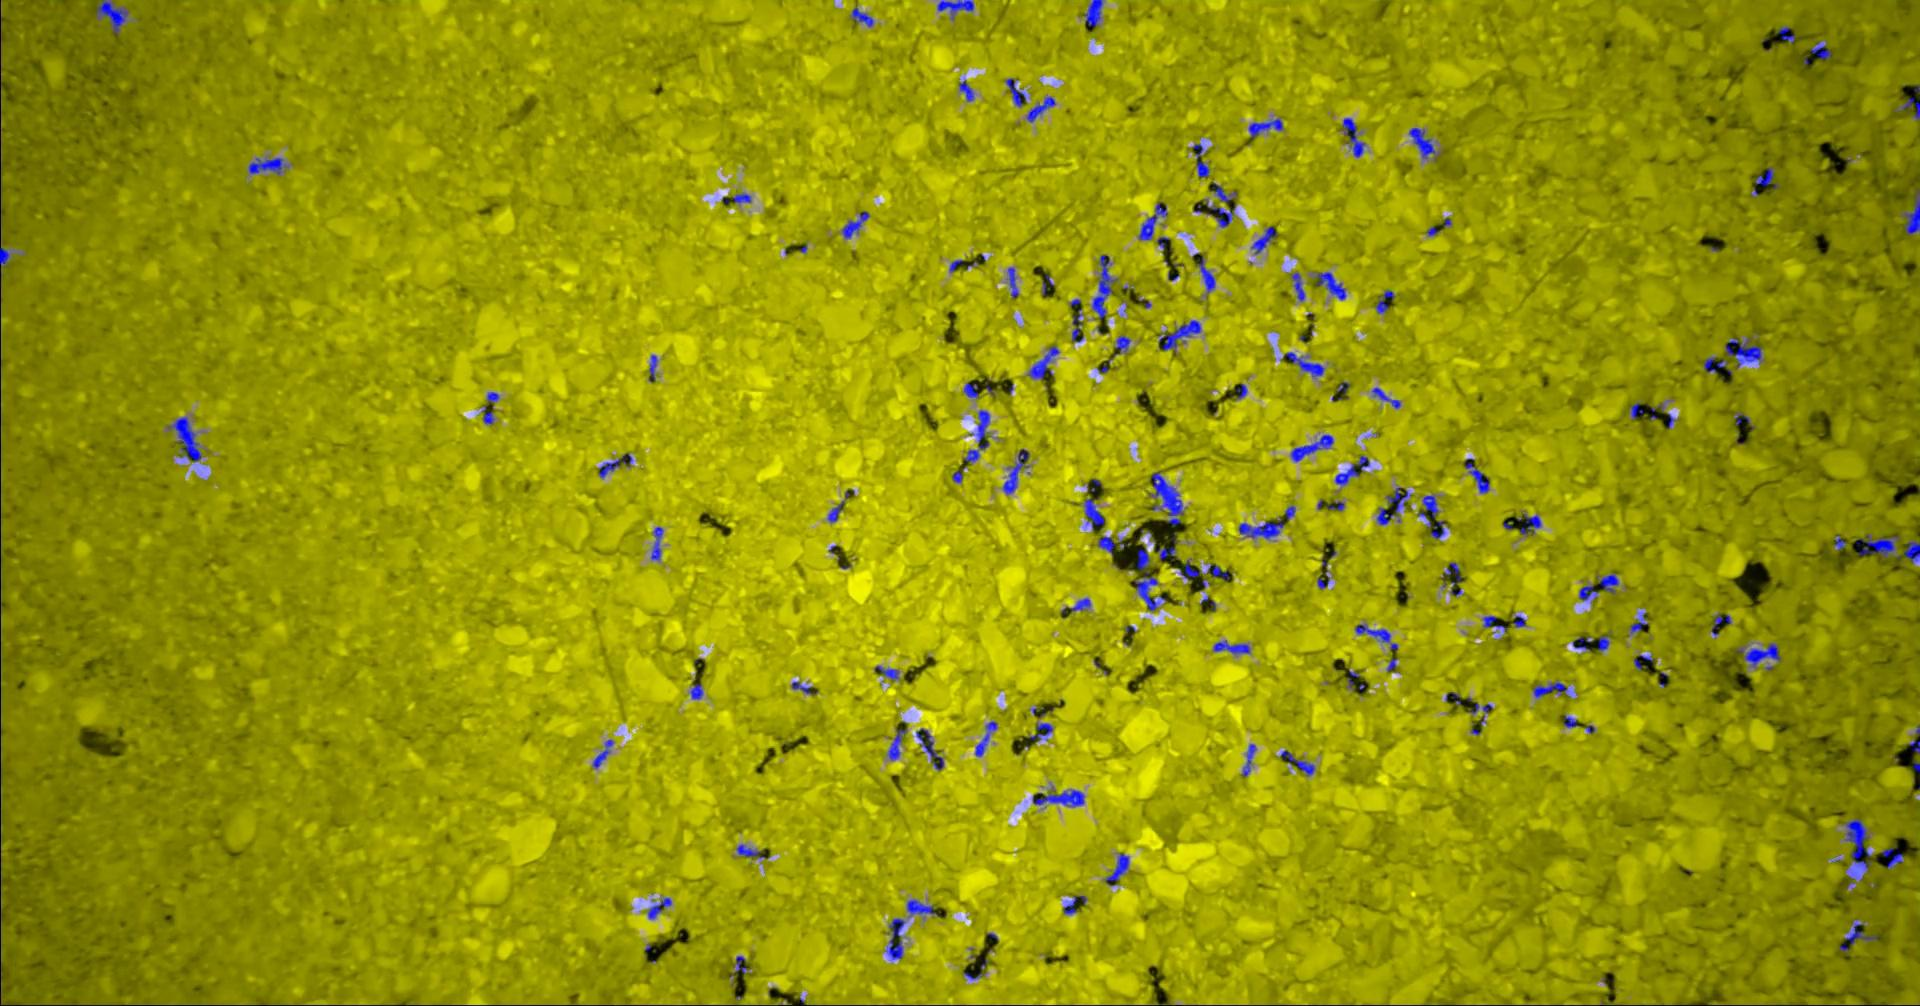ant: (1153, 471, 1185, 525), (1093, 254, 1119, 318), (1137, 547, 1161, 610), (169, 417, 202, 461), (1161, 320, 1203, 352), (1378, 486, 1412, 525), (965, 410, 990, 461), (1840, 920, 1879, 951), (1848, 818, 1870, 869), (1291, 434, 1335, 461), (917, 728, 945, 768), (1004, 448, 1030, 493), (1726, 337, 1763, 367), (97, 0, 130, 33), (1029, 345, 1062, 379), (1336, 455, 1371, 485), (1857, 533, 1901, 558), (1140, 203, 1170, 239), (1239, 517, 1286, 539), (1034, 788, 1086, 807), (1738, 643, 1782, 666), (1288, 351, 1324, 376), (1343, 117, 1366, 158), (1281, 749, 1316, 775), (1410, 127, 1437, 158), (1317, 271, 1347, 298), (1465, 459, 1491, 492), (599, 453, 634, 478), (1106, 852, 1130, 885), (977, 720, 998, 756), (888, 918, 905, 959), (843, 211, 870, 238), (938, 0, 975, 19), (1253, 226, 1279, 253), (1197, 257, 1217, 292), (1029, 97, 1057, 121), (1906, 188, 1920, 235), (1250, 118, 1284, 137), (250, 158, 290, 174), (1086, 497, 1106, 528), (1356, 624, 1392, 641), (1098, 536, 1131, 555), (1156, 535, 1180, 560), (1210, 205, 1237, 227), (889, 728, 908, 760), (1373, 387, 1402, 408), (1194, 144, 1211, 177), (1007, 77, 1027, 105), (594, 739, 615, 767), (1470, 702, 1495, 725), (1534, 682, 1570, 697), (1757, 166, 1780, 189), (1178, 559, 1203, 580), (649, 897, 673, 918), (1213, 182, 1238, 202), (1062, 597, 1092, 614), (1517, 513, 1542, 533), (1084, 0, 1103, 25), (1597, 573, 1620, 593), (908, 899, 938, 915), (1243, 743, 1257, 776), (1030, 721, 1054, 741), (1215, 640, 1251, 653), (1418, 495, 1439, 517), (1883, 847, 1905, 868), (1377, 290, 1396, 312), (651, 526, 664, 560), (1065, 895, 1088, 915), (853, 6, 875, 25), (1713, 614, 1732, 635), (738, 843, 767, 857), (1705, 356, 1730, 372), (1484, 615, 1509, 631), (1812, 39, 1832, 58), (1903, 97, 1920, 119), (1073, 307, 1084, 340), (1208, 565, 1234, 579), (1444, 561, 1463, 580), (1429, 518, 1446, 539), (829, 500, 846, 522), (1293, 272, 1305, 300), (960, 79, 975, 102), (1, 246, 11, 281), (792, 681, 819, 694), (876, 666, 900, 680), (1632, 612, 1648, 633), (1010, 267, 1020, 297), (1636, 654, 1655, 669), (1906, 541, 1920, 561), (1580, 586, 1599, 600), (1117, 335, 1131, 353), (1575, 636, 1592, 650), (1780, 25, 1796, 41), (965, 382, 980, 398), (1630, 401, 1644, 418), (483, 405, 495, 423), (737, 955, 749, 973), (650, 354, 658, 381), (1349, 669, 1360, 687), (488, 391, 500, 406), (1599, 635, 1610, 650), (692, 683, 703, 699), (1330, 500, 1346, 511), (1564, 715, 1578, 727), (734, 193, 752, 202), (1238, 384, 1248, 398)
